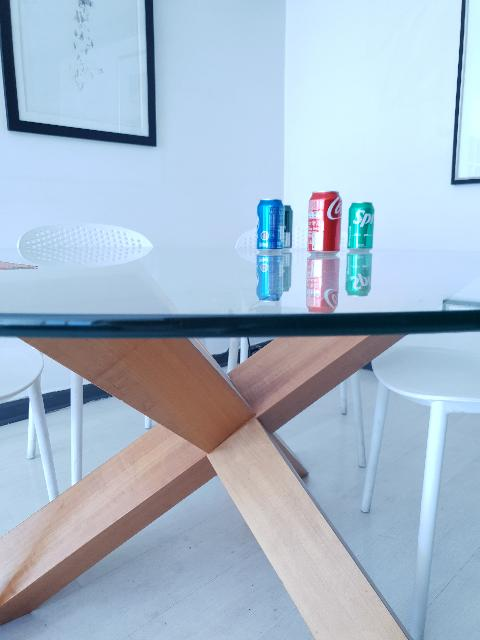coke: (306, 188, 344, 252)
pepsi: (255, 194, 280, 252)
schweppes: (278, 205, 296, 249)
sprite: (348, 199, 374, 251)
